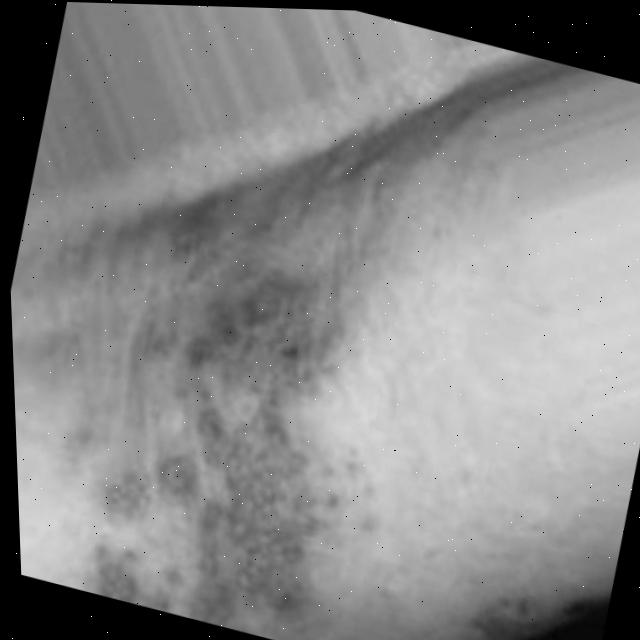Shingles: (64, 221, 387, 640)
